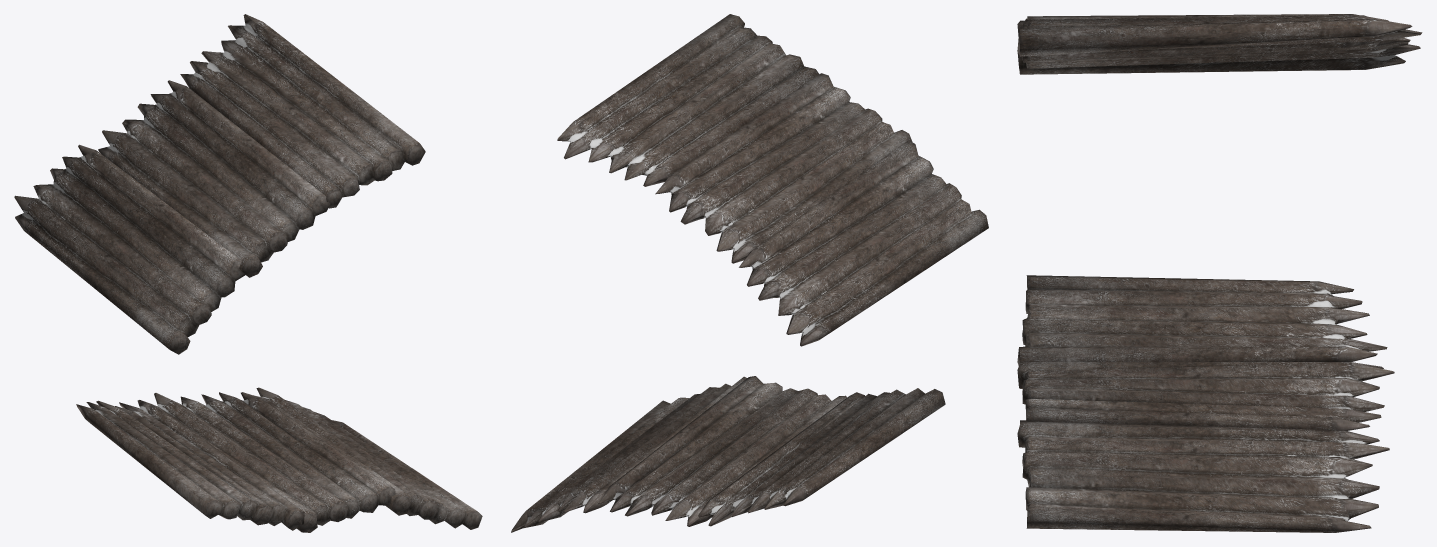
Rendered from PalisadeSnow_Grp_02.fbx.
3 views of the same model, side by side, from view 1: azimuth 30°, elevation 25°; view 2: azimuth 150°, elevation 25°; view 3: azimuth 270°, elevation 25° (orthographic). The views are drawn at different scales.
Parts seen in each view (by area): view 1: Palisade_Snow_Grp_02; view 2: Palisade_Snow_Grp_02; view 3: Palisade_Snow_Grp_02.
Boxes of the visible parts, box(x1,y1,x2,y2) form: Palisade_Snow_Grp_02: box(14, 14, 482, 532); Palisade_Snow_Grp_02: box(511, 14, 988, 532); Palisade_Snow_Grp_02: box(1017, 14, 1422, 532).
Bounding box in the file's own units: 29.77 × 37.4 × 28.81.
Materials: 1 (1 with a texture image).
